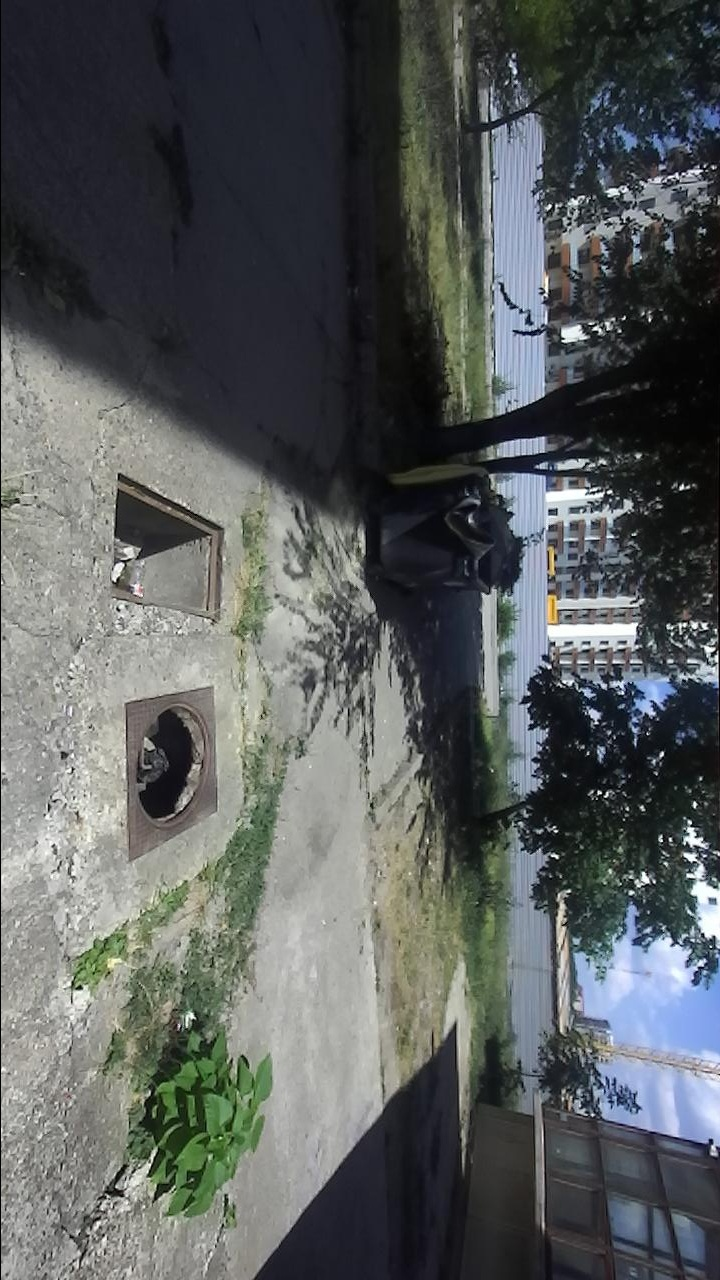drain: (111, 465, 225, 626), (132, 698, 217, 833)
